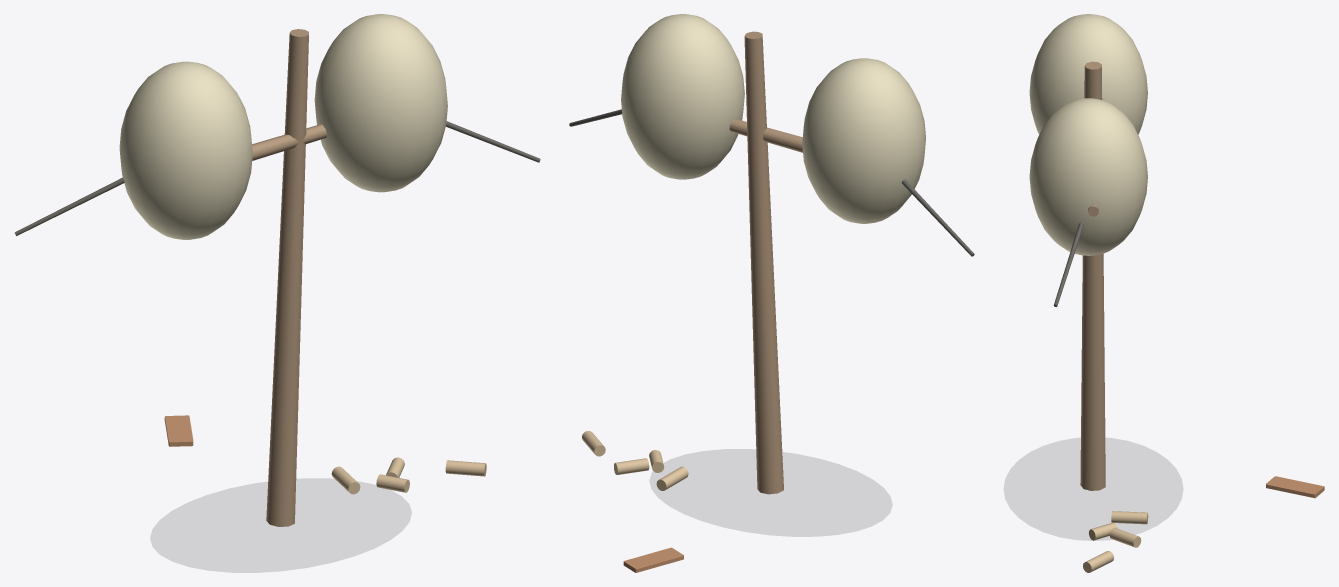
The model's file is utility_pole.glb.
3 renders of one model, left to right at view 1: azimuth 30°, elevation 25°; view 2: azimuth 150°, elevation 25°; view 3: azimuth 270°, elevation 25°, orthographic. The views are drawn at different scales.
Visible parts, largest first — view 1: ceramic_insulator_0, ceramic_insulator_1, painted_contact_shadow, sun_cracked_pole, crooked_crossarm, loose_scrap_flake_4, sagging_wire_a; view 2: ceramic_insulator_0, ceramic_insulator_1, painted_contact_shadow, sun_cracked_pole, crooked_crossarm, loose_scrap_flake_4, sagging_wire_a; view 3: ceramic_insulator_1, painted_contact_shadow, ceramic_insulator_0, sun_cracked_pole, loose_scrap_flake_4, discarded_bolt_detail_3, sagging_wire_b.
Boxes of the visible parts, bbox=[...] form: ceramic_insulator_0: bbox=[119, 61, 252, 239]; ceramic_insulator_1: bbox=[314, 14, 447, 192]; painted_contact_shadow: bbox=[150, 479, 411, 572]; sun_cracked_pole: bbox=[266, 29, 308, 526]; crooked_crossarm: bbox=[252, 124, 326, 160]; loose_scrap_flake_4: bbox=[164, 415, 193, 446]; sagging_wire_a: bbox=[14, 177, 124, 235]; ceramic_insulator_0: bbox=[802, 58, 925, 223]; ceramic_insulator_1: bbox=[621, 14, 744, 179]; painted_contact_shadow: bbox=[650, 449, 891, 536]; sun_cracked_pole: bbox=[744, 31, 783, 494]; crooked_crossarm: bbox=[729, 118, 802, 152]; loose_scrap_flake_4: bbox=[623, 547, 683, 572]; sagging_wire_a: bbox=[901, 179, 974, 256]; ceramic_insulator_1: bbox=[1029, 98, 1147, 255]; painted_contact_shadow: bbox=[1004, 438, 1182, 540]; ceramic_insulator_0: bbox=[1029, 14, 1147, 134]; sun_cracked_pole: bbox=[1080, 61, 1105, 490]; loose_scrap_flake_4: bbox=[1266, 476, 1324, 498]; discarded_bolt_detail_3: bbox=[1111, 511, 1148, 524]; sagging_wire_b: bbox=[1053, 222, 1083, 306].
Size of the model in its own units: 2.07 by 2.01 by 1.35.
